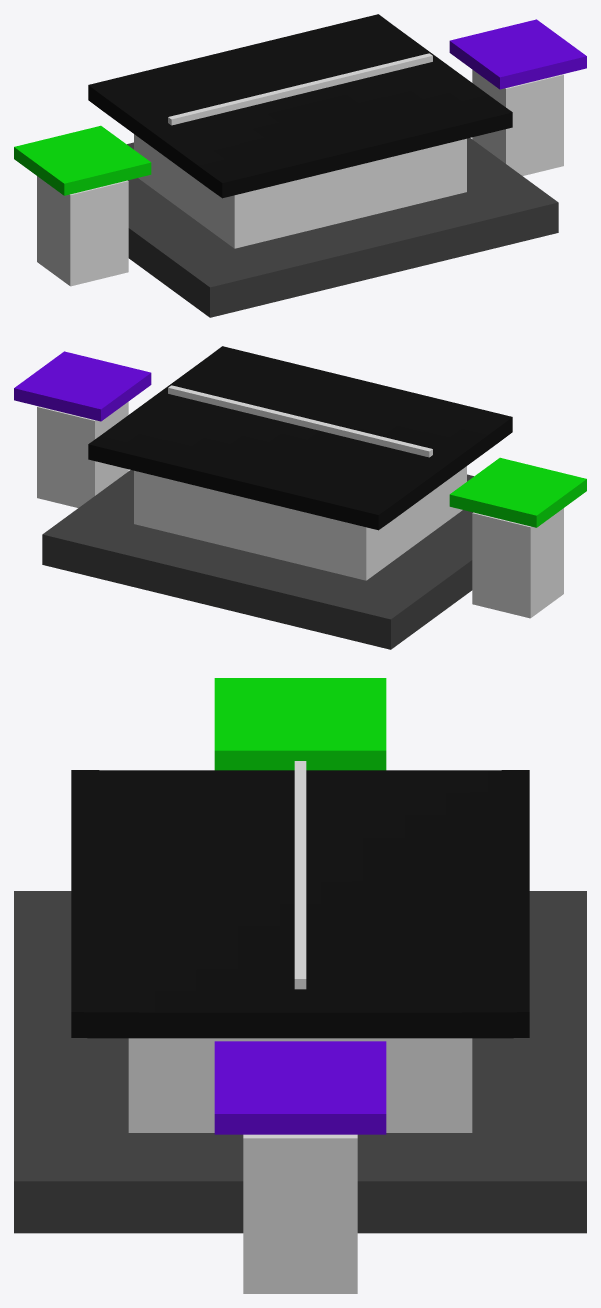
Rendered from tomb.glb.
3 renders of one model, top to bottom at view 1: azimuth 30°, elevation 25°; view 2: azimuth 150°, elevation 25°; view 3: azimuth 270°, elevation 25°, orthographic. The views are drawn at different scales.
Parts seen in each view (by area): view 1: Roof, TemplePlatform, MainHall, Cube.006, Cube.008, Cube.007, Cube.009, Cube.005; view 2: Roof, TemplePlatform, MainHall, Cube.006, Cube.008, Cube.007, Cube.009, Cube.005; view 3: Roof, TemplePlatform, Cube.008, MainHall, Cube.009, Cube.007, Cube.005.
Boxes of the visible parts, box(x1,y1,x2,y2) form: Roof: box(88, 14, 512, 198); TemplePlatform: box(127, 138, 558, 317); MainHall: box(134, 134, 466, 248); Cube.006: box(37, 176, 128, 286); Cube.008: box(472, 69, 563, 175); Cube.007: box(14, 125, 151, 195); Cube.009: box(449, 19, 586, 89); Cube.005: box(168, 53, 432, 125); Roof: box(88, 346, 512, 530); TemplePlatform: box(42, 470, 473, 649); MainHall: box(134, 466, 466, 580); Cube.006: box(472, 508, 563, 618); Cube.008: box(37, 401, 128, 507); Cube.007: box(449, 457, 586, 527); Cube.009: box(14, 351, 151, 421); Cube.005: box(168, 385, 432, 457); Roof: box(71, 770, 529, 1038); TemplePlatform: box(14, 891, 586, 1233); Cube.008: box(243, 1134, 357, 1293); MainHall: box(128, 1038, 472, 1132); Cube.009: box(214, 1041, 386, 1134); Cube.007: box(214, 678, 386, 770); Cube.005: box(294, 761, 306, 989).
Size of what is drawn, in the model's own units: 36 by 8.4 by 20.
